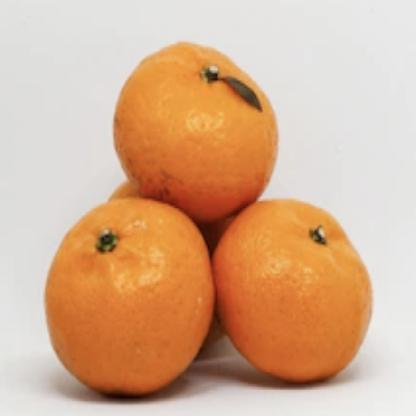fresh: (45, 44, 375, 398)
